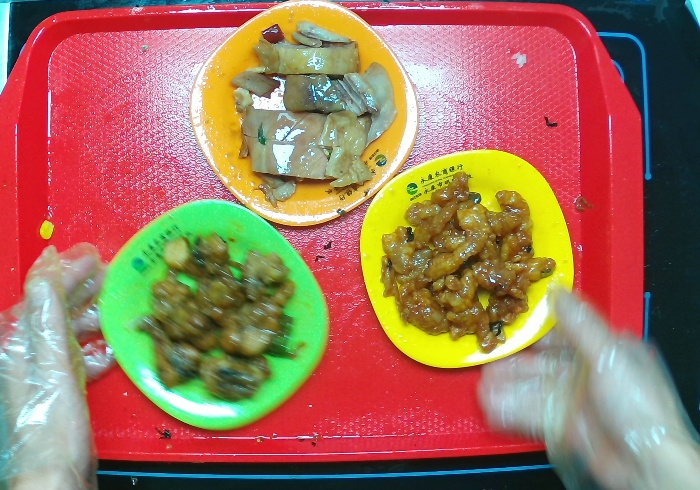YKMZ-Huang_Se_Fang_Die: (357, 149, 576, 369)
YKMZ-Ju_Se_Fang_Die: (188, 1, 417, 227)
YKMZ-Lv_Se_Fang_Die: (96, 196, 330, 435)
